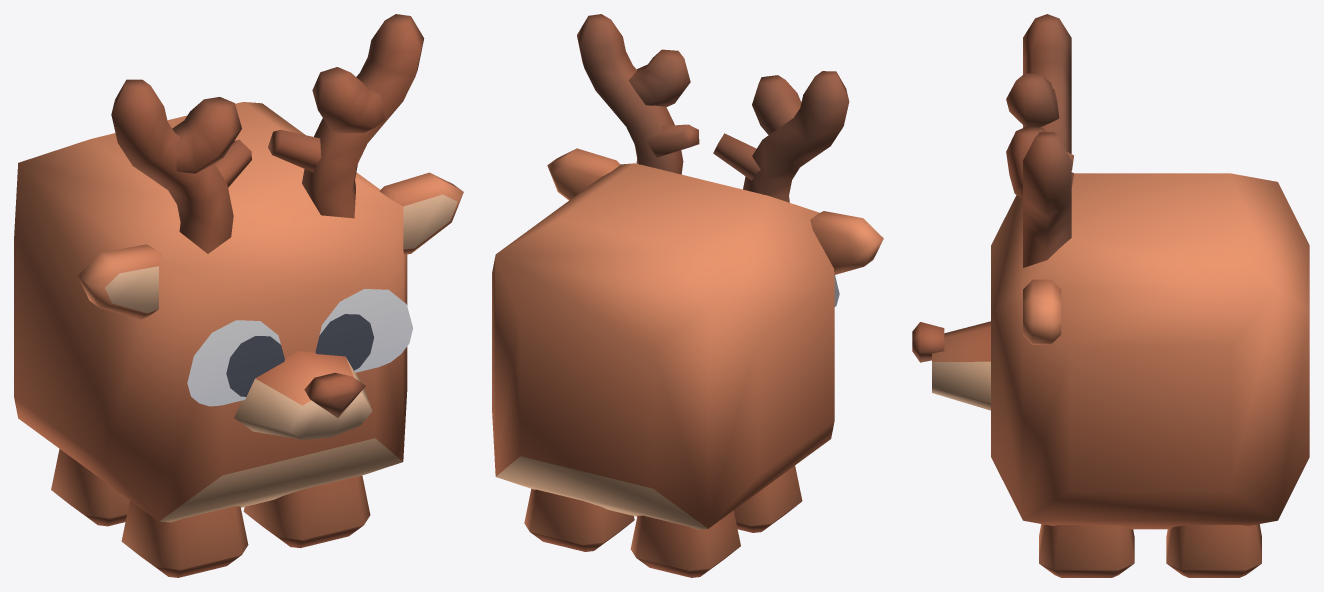
File: deer.glb
The picture shows the model from 3 angles, left to right: view 1: azimuth 30°, elevation 25°; view 2: azimuth 150°, elevation 25°; view 3: azimuth 270°, elevation 25°; orthographic projection. The views are drawn at different scales.
Parts seen in each view (by area): view 1: body, leg-front-right, leg-front-left; view 2: body, leg-front-right, leg-front-left; view 3: body, leg-front-left.
Boxes of the visible parts, x1,y1,x2,y2 form: body: (14,14,463,522); leg-front-right: (51,449,248,577); leg-front-left: (243,475,370,548); body: (492,14,883,529); leg-front-right: (630,465,802,577); leg-front-left: (524,489,634,551); body: (912,14,1309,529); leg-front-left: (1039,524,1261,577).
Size of the model in its own units: 1.54 by 1.99 by 1.56.
Materials: 1 (1 with a texture image).
